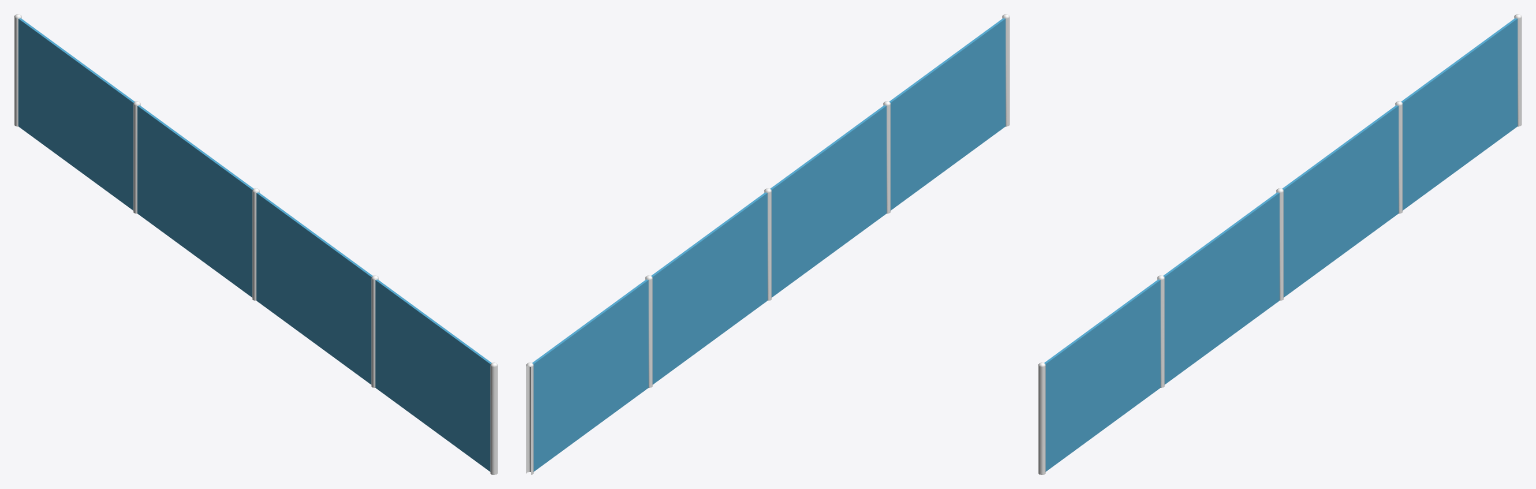
The model's file is railing2.fbx.
3 views of the same model, side by side, from view 1: azimuth 30°, elevation 25°; view 2: azimuth 150°, elevation 25°; view 3: azimuth 330°, elevation 25° (orthographic).
Parts seen in each view (by area): view 1: Railing_2; view 2: Railing_2; view 3: Railing_2.
Part boxes in pixels (bbox=[...]): Railing_2: bbox=[14, 14, 497, 474]; Railing_2: bbox=[526, 14, 1009, 474]; Railing_2: bbox=[1038, 14, 1521, 474].
Bounding box in the file's own units: 12 × 205 × 1611.
